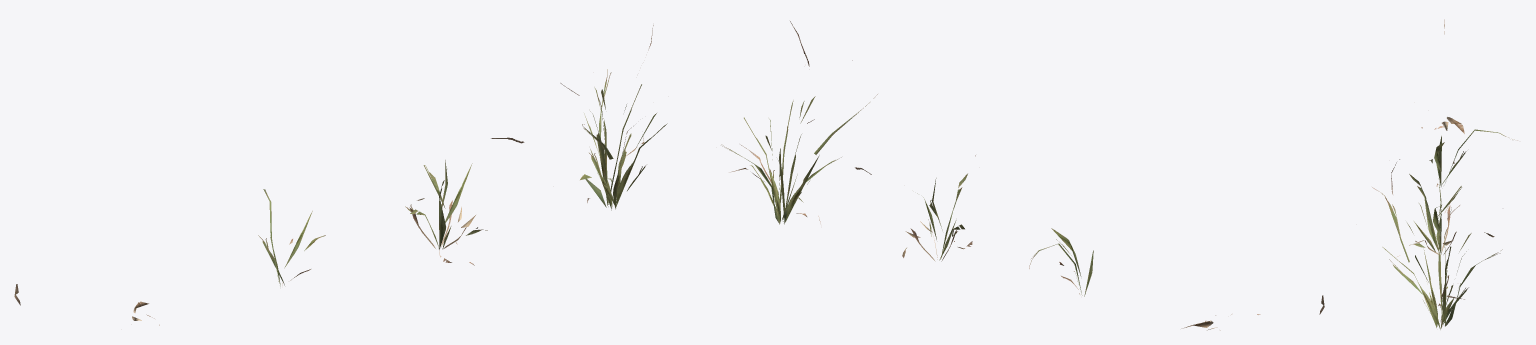
File: grass_medium_02.glb
3 views of the same model, side by side, from view 1: azimuth 30°, elevation 25°; view 2: azimuth 150°, elevation 25°; view 3: azimuth 270°, elevation 25° (orthographic). The views are drawn at different scales.
Visible parts, largest first — view 1: grass_medium_02_a; view 2: grass_medium_02_a; view 3: grass_medium_02_a.
Boxes of the visible parts, box(x1,y1,x2,y2) form: grass_medium_02_a: box(14, 25, 667, 325); grass_medium_02_a: box(721, 21, 1324, 330); grass_medium_02_a: box(1372, 19, 1517, 329).
Size of the model in its own units: 1.24 by 0.377 by 0.317.
1 material, 1 textured.
